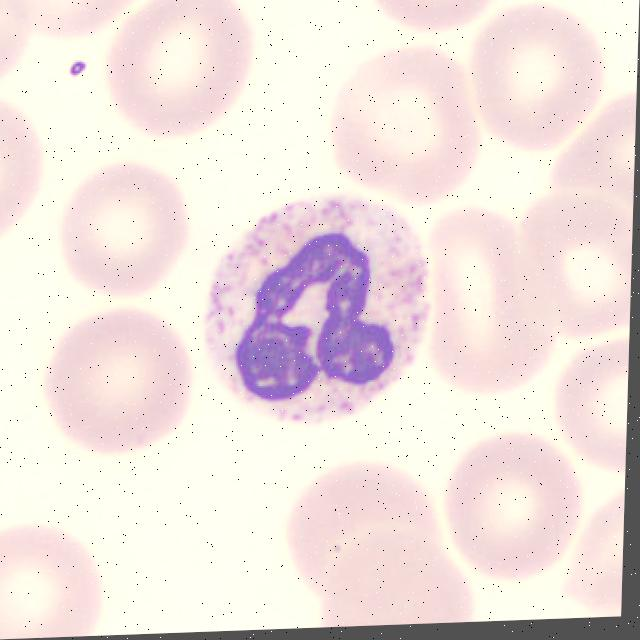neutrophil: (202, 195, 438, 430)
rbc: (416, 190, 559, 412), (47, 293, 195, 465), (327, 46, 478, 210), (287, 452, 442, 603), (95, 0, 269, 133), (448, 428, 586, 590), (469, 13, 614, 167), (503, 195, 634, 350), (65, 154, 189, 298), (304, 532, 475, 628), (532, 97, 636, 251), (0, 516, 125, 640), (545, 338, 629, 473), (0, 100, 66, 253), (561, 490, 625, 618), (15, 0, 154, 50), (351, 0, 504, 41), (0, 0, 33, 92)
